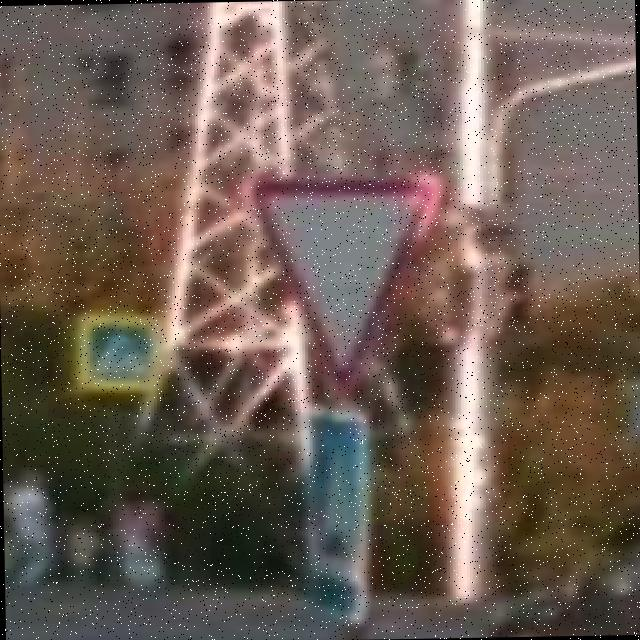Przejscie dla pieszych: (68, 307, 170, 393)
Ustap pierwszenstwa: (242, 172, 446, 384)
